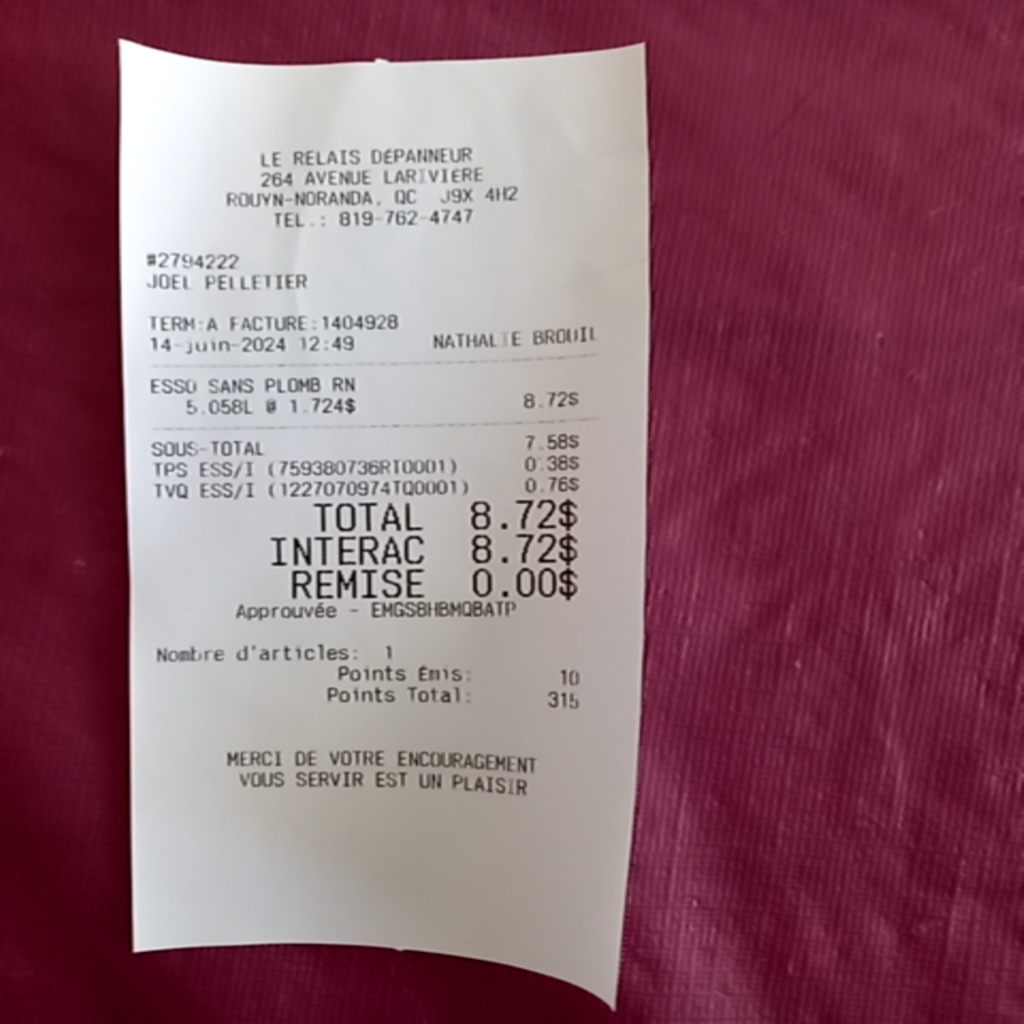recipt: (118, 38, 650, 1009)
